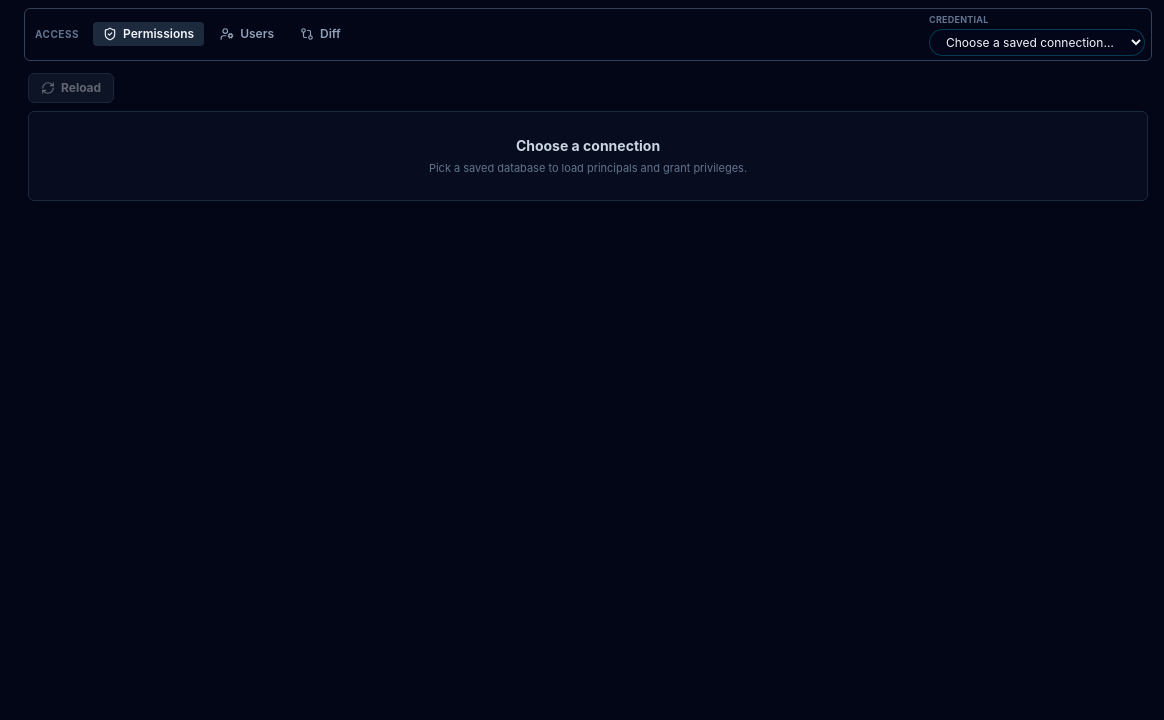
it: AccessView — User Management list + Builder handoff › keeps one workspace credential across Users and Permission
Select "Demo PG · postgres" in the dropdown with test id "access-connection": (1037, 42) [929,28,1145,56]
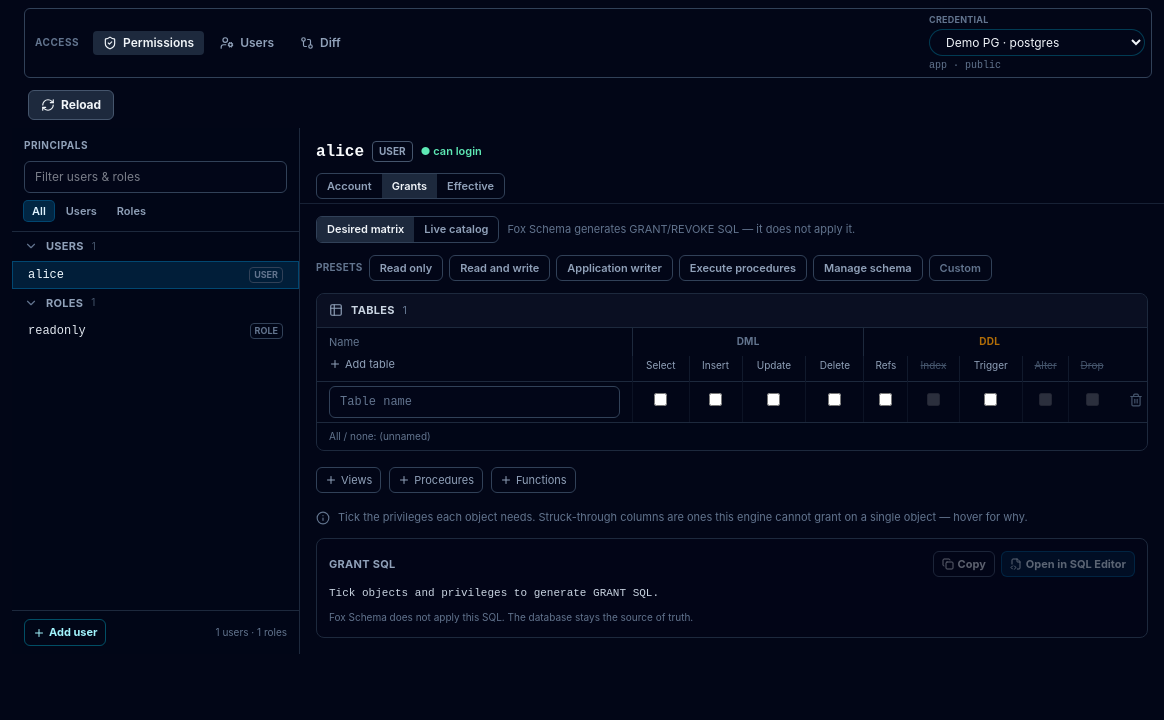
Now the element with test id "access-principals-sidebar" is shown, box [12,128,300,654]
Now the button with test id "access-permission-row-alice" is shown, box [12,260,299,288]
Click the button with test id "access-tab-users": click(247, 43) [210,31,284,55]
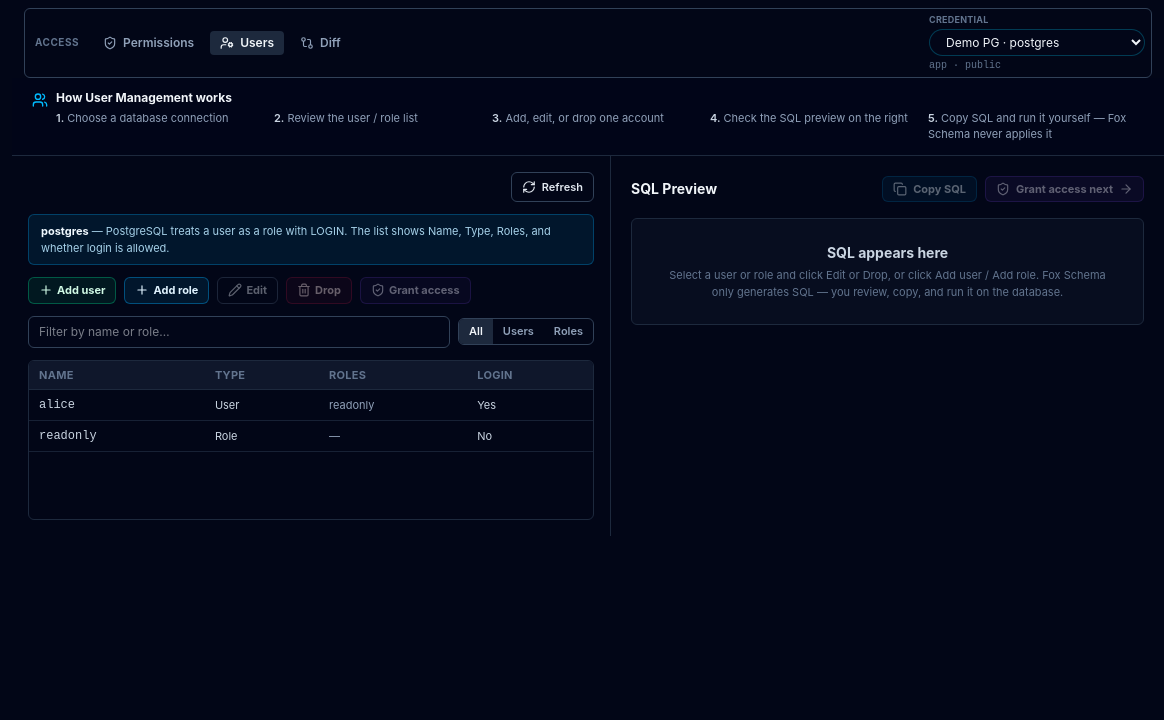
Now the row with test id "user-row-alice" is shown, box [29,390,593,420]
